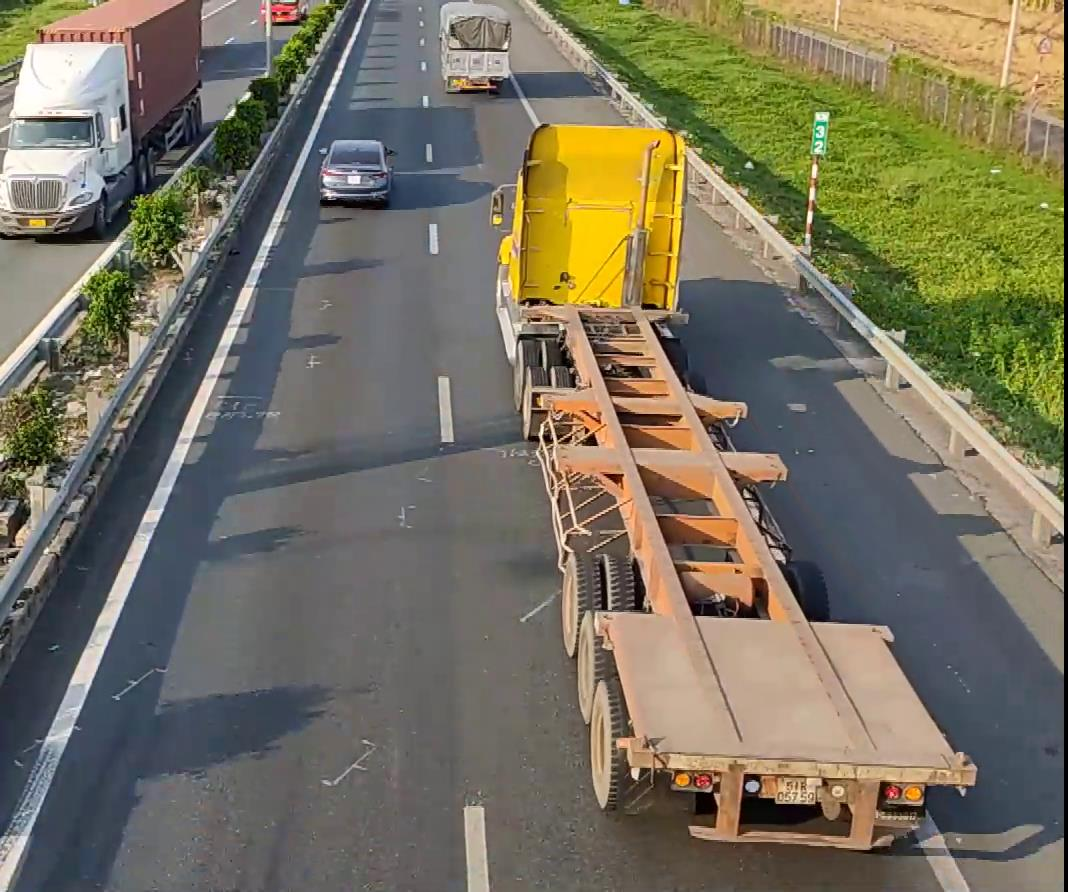car: (317, 139, 393, 207)
container: (486, 120, 978, 844), (0, 0, 205, 239)
truck: (437, 0, 512, 93)
